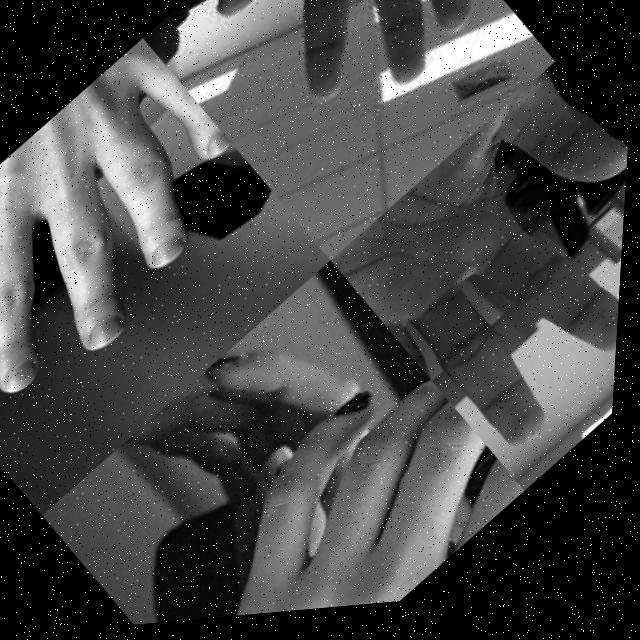hand: (322, 65, 635, 490), (0, 29, 288, 454), (118, 343, 537, 630), (186, 0, 507, 170)
